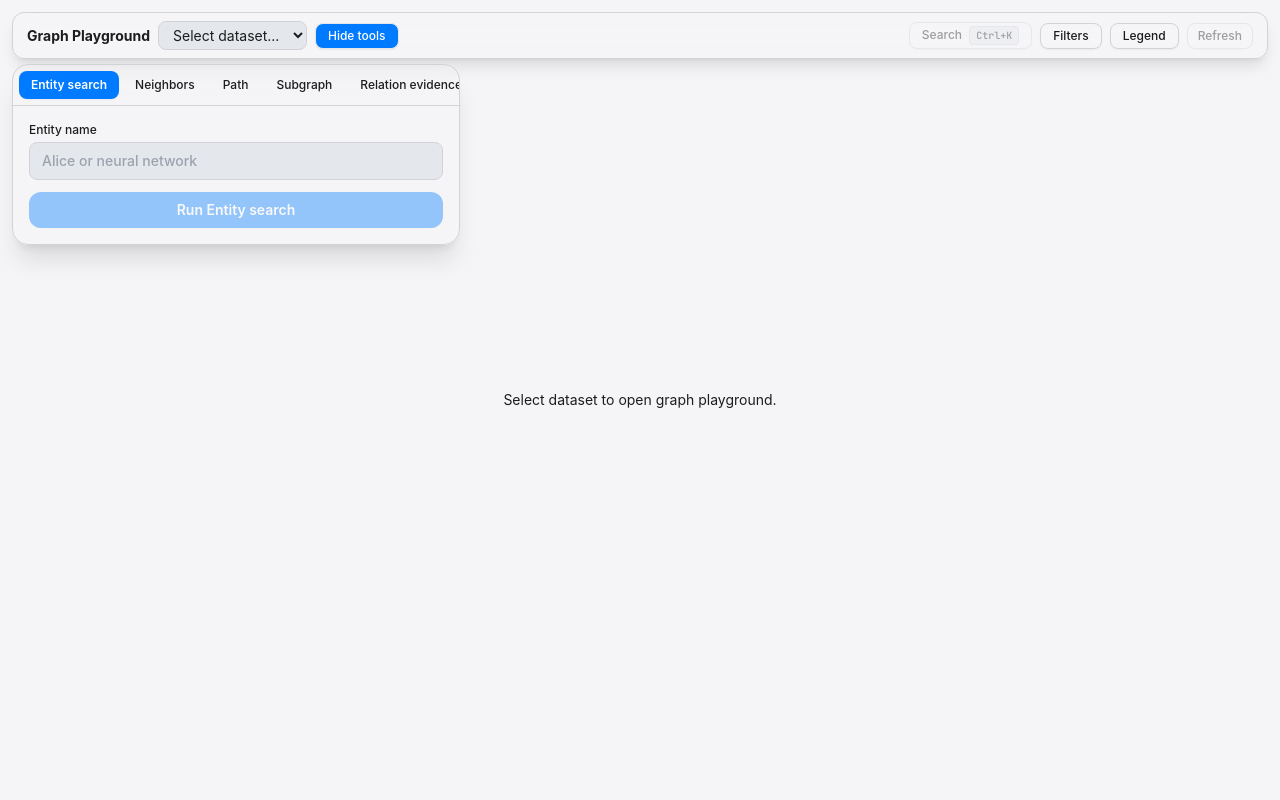
Scenario: GraphPage › preserves 2700 explorer nodes
Select "Research" in the dropdown named "Dataset" at (232, 36), box [158,21,307,50]
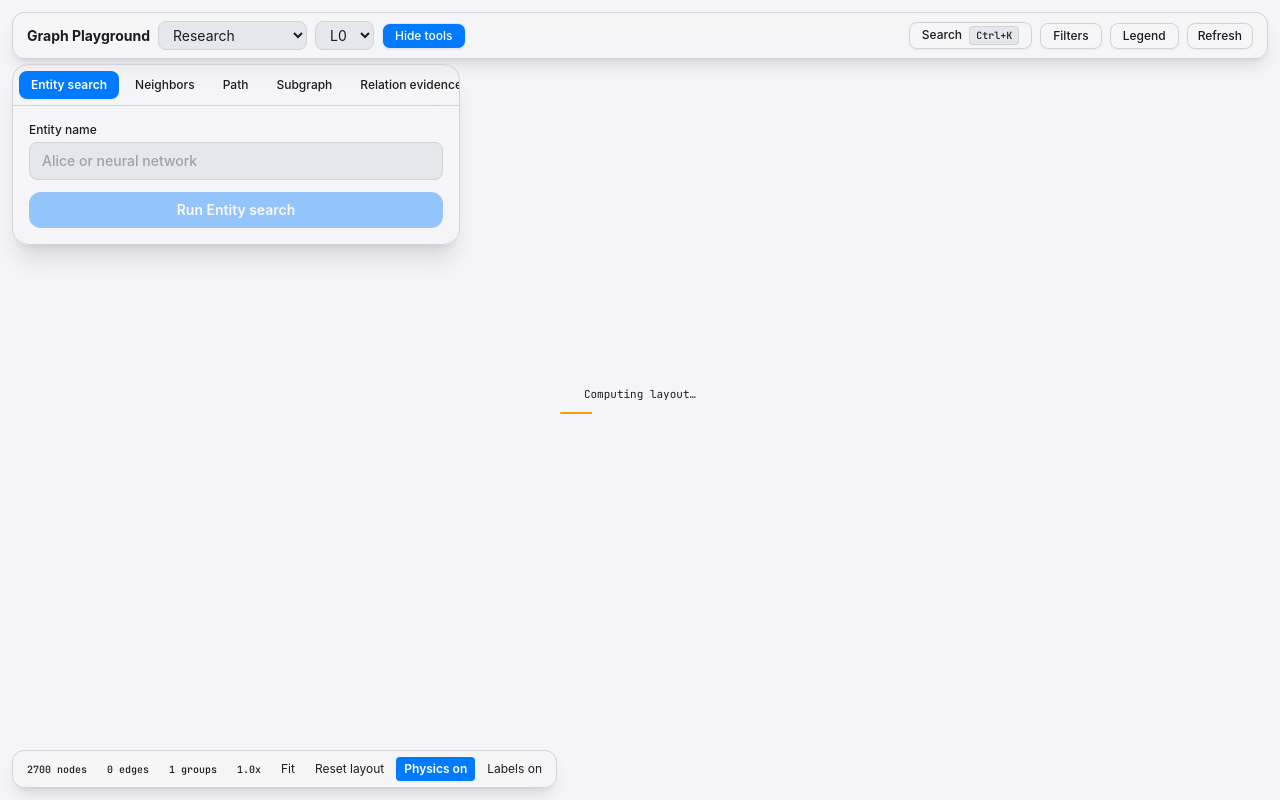
Result: the text "2700 nodes" is shown at [27,762,87,776]
